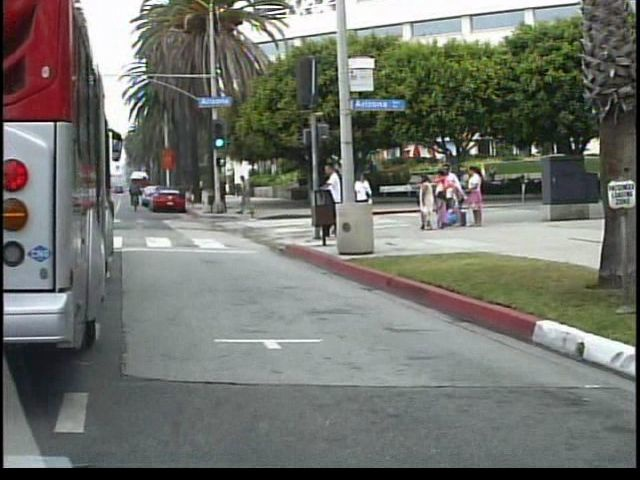person: (323, 159, 348, 240), (355, 167, 378, 230), (238, 170, 259, 215)
